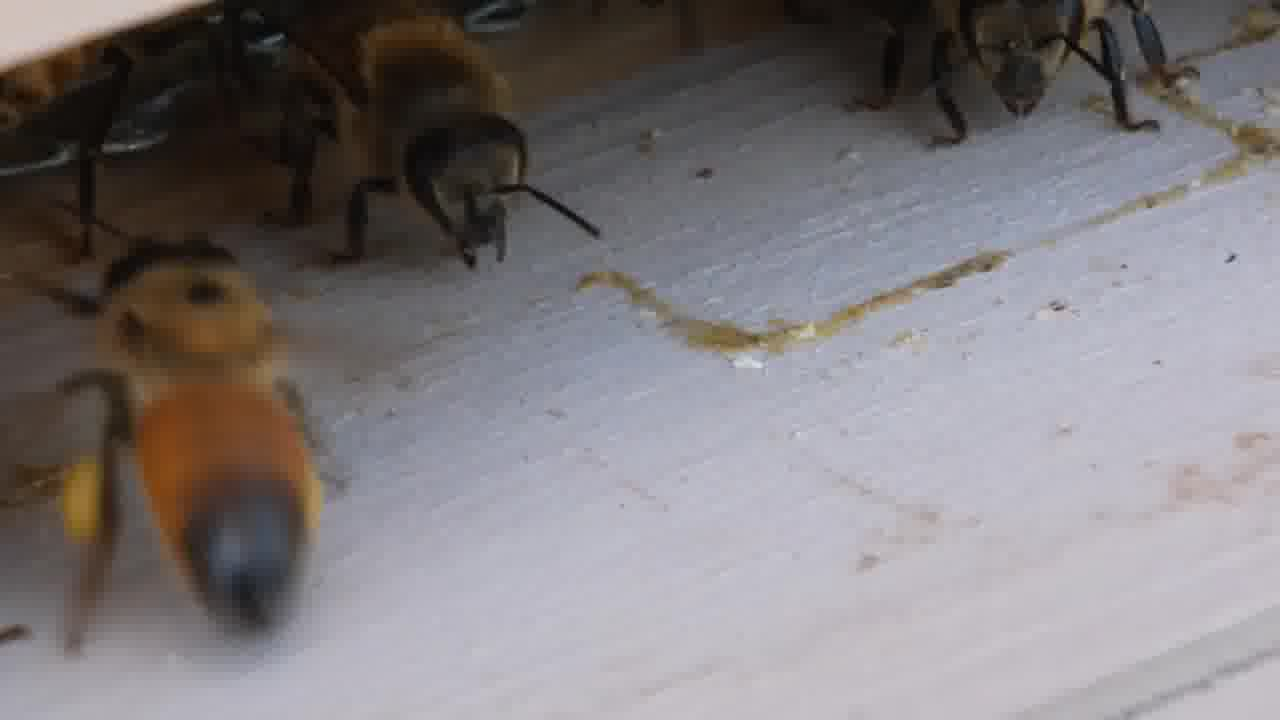pollen: (43, 238, 354, 651)
